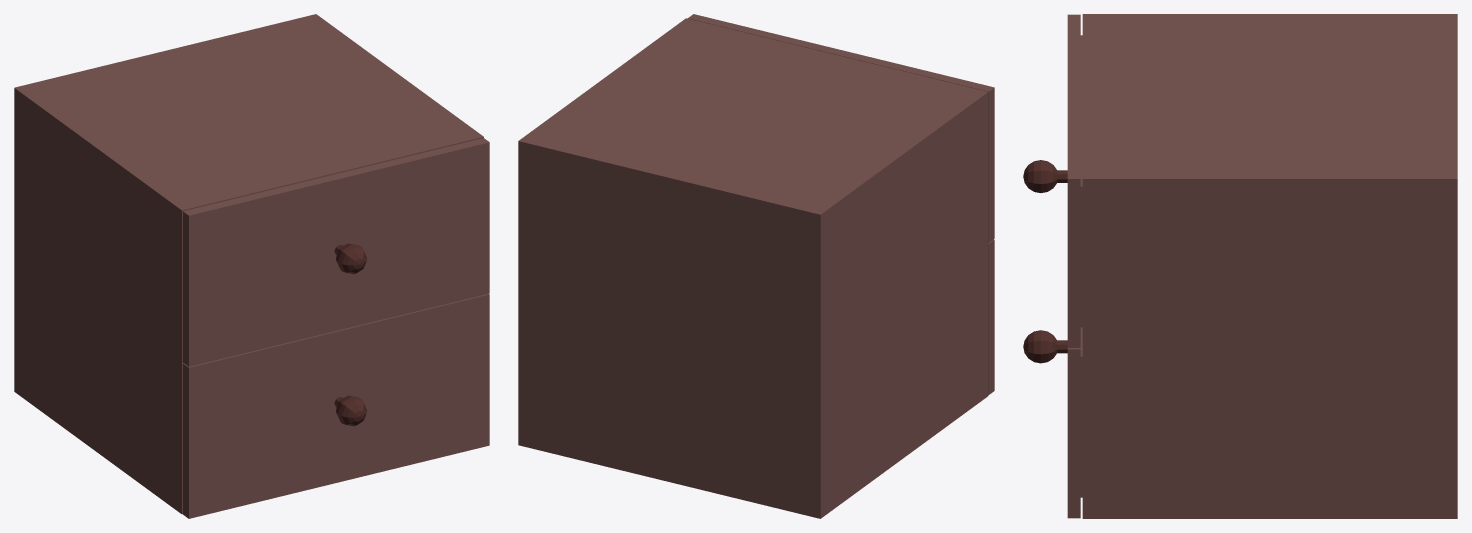
The model's file is drawer.fbx.
The picture shows the model from 3 angles, left to right: view 1: azimuth 30°, elevation 25°; view 2: azimuth 150°, elevation 25°; view 3: azimuth 270°, elevation 25°; orthographic projection. The views are drawn at different scales.
Parts seen in each view (by area): view 1: RoomFurniture_04; view 2: RoomFurniture_04; view 3: RoomFurniture_04.
Part boxes in pixels (box(x1,y1,x2,y2)): RoomFurniture_04: box(14, 14, 489, 518); RoomFurniture_04: box(518, 14, 994, 518); RoomFurniture_04: box(1023, 14, 1457, 518).
Bounding box in the file's own units: 102 × 98.47 × 114.
